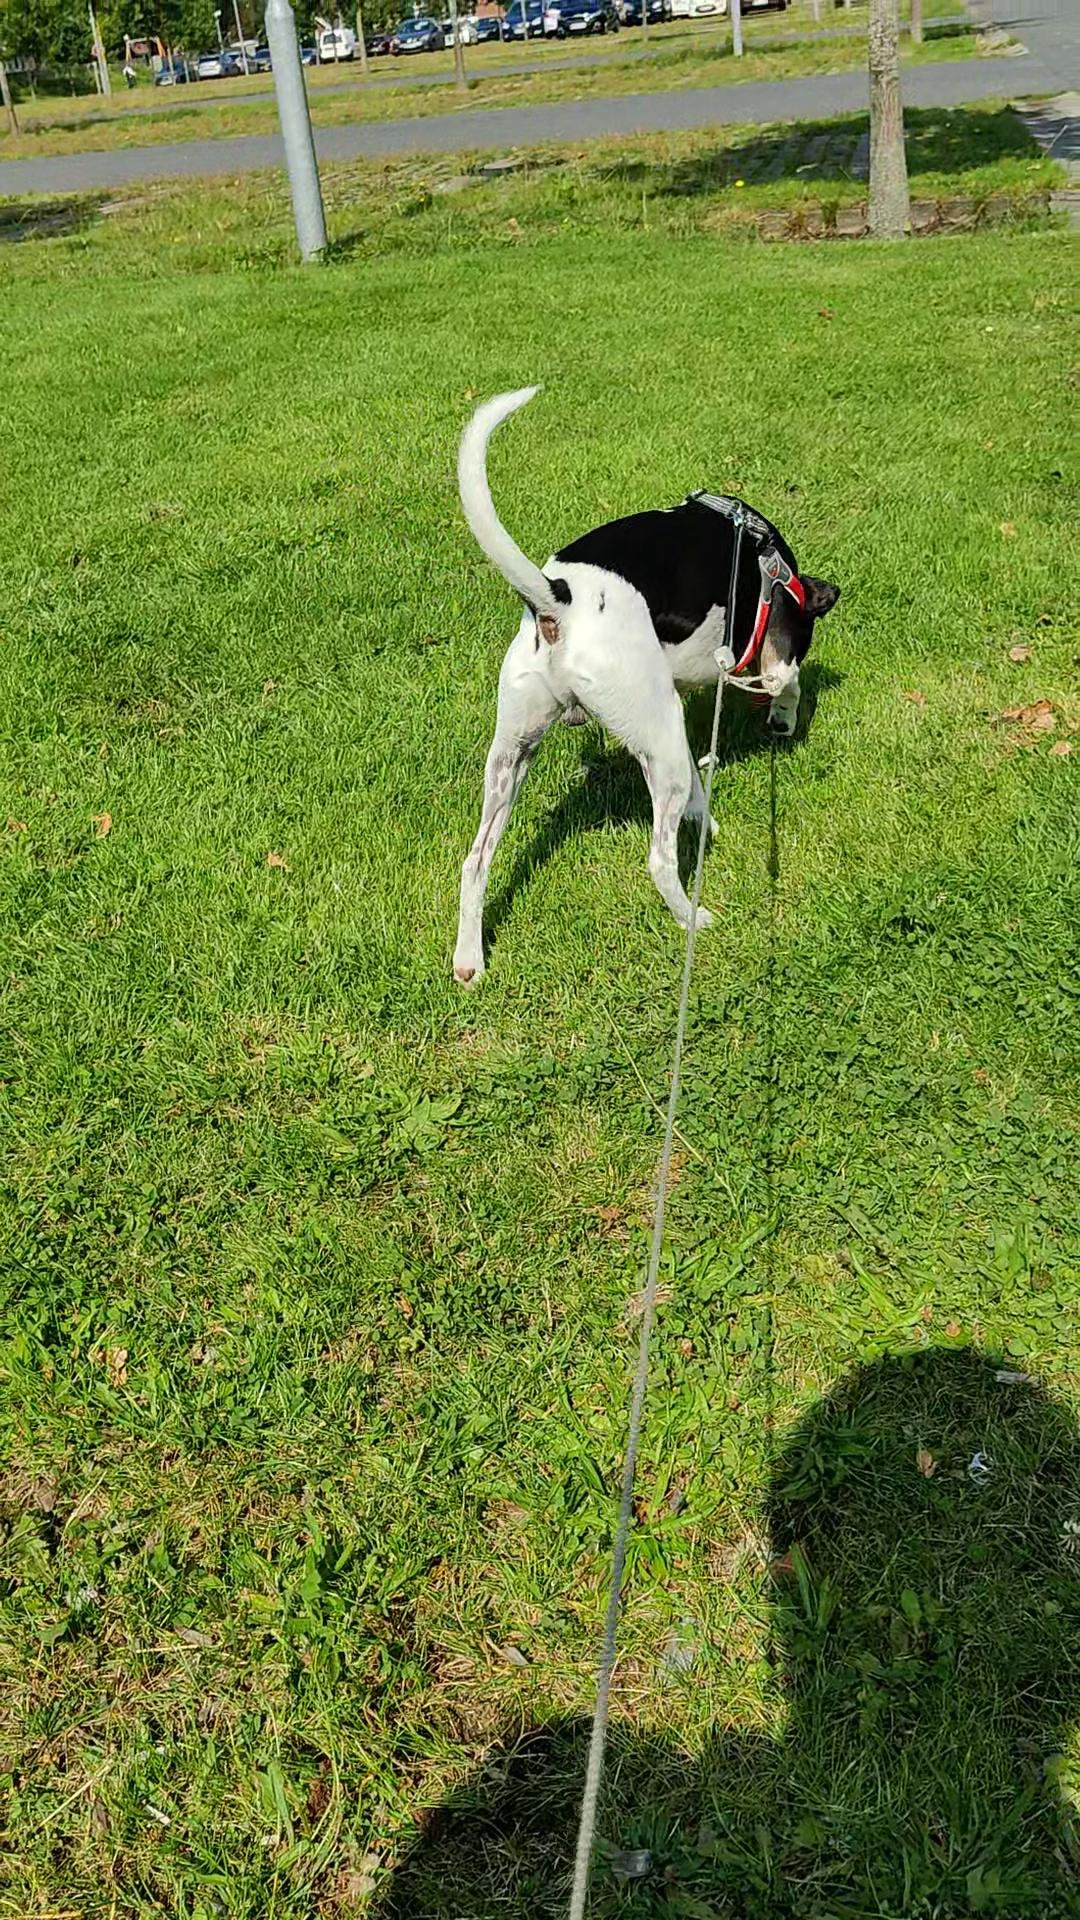Dog: (444, 377, 843, 992)
